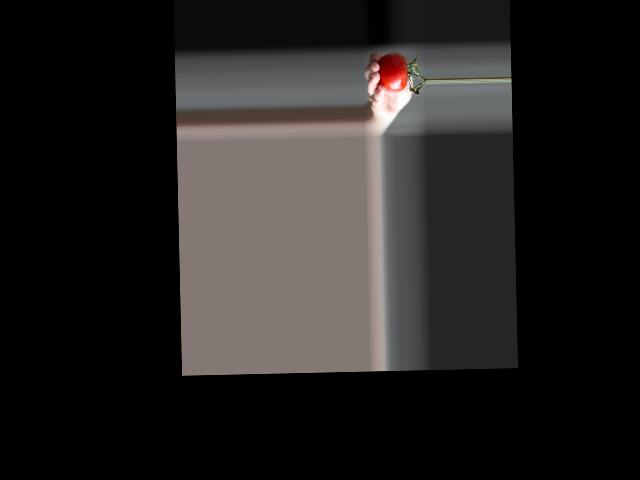tomato: (377, 52, 409, 92)
